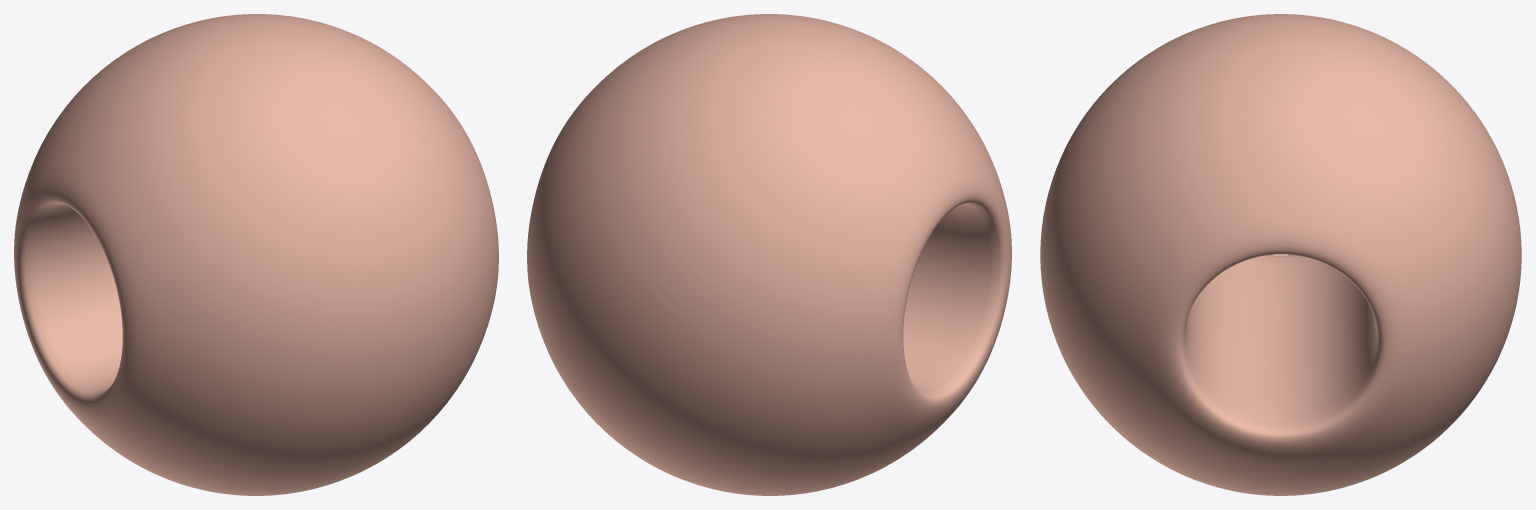
3 views of the same model, side by side, from view 1: azimuth 30°, elevation 25°; view 2: azimuth 150°, elevation 25°; view 3: azimuth 270°, elevation 25° (orthographic).
Visible parts, largest first — view 1: body; view 2: body; view 3: body.
Boxes of the visible parts, left/top/right/bottom form: body: left=14, top=14, right=498, bottom=495; body: left=527, top=14, right=1011, bottom=495; body: left=1040, top=14, right=1521, bottom=495.
Bounding box in the file's own units: 1.75 × 1.97 × 1.97.
